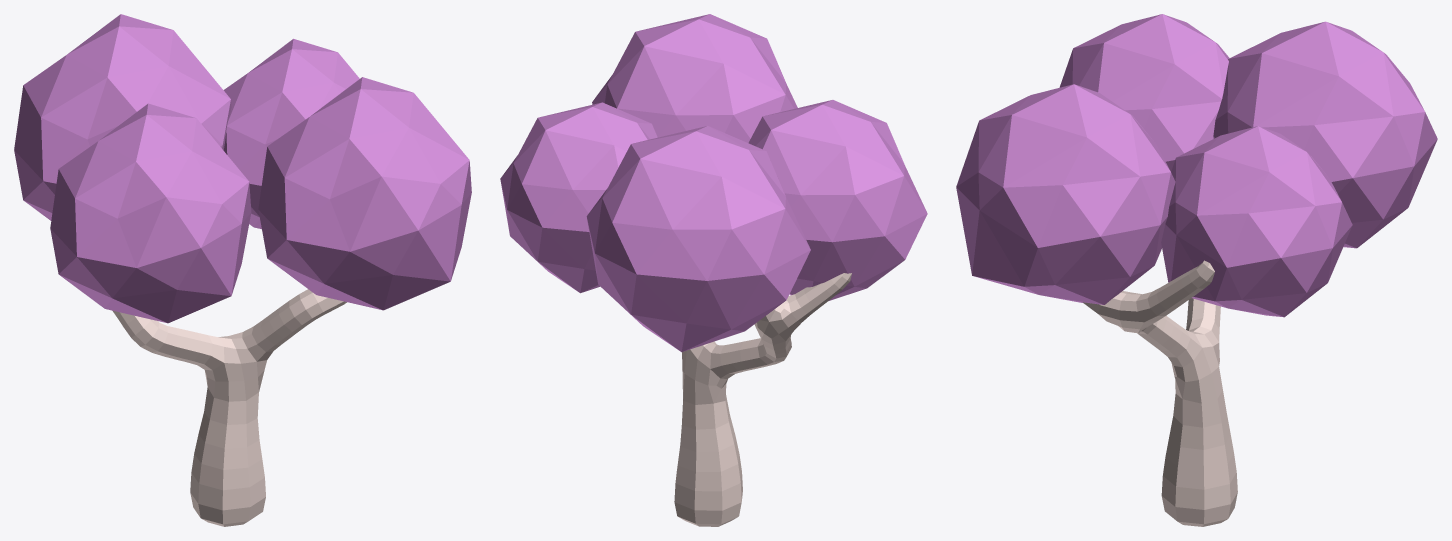
File: jacaranda_level0.glb
The picture shows the model from 3 angles, left to right: view 1: azimuth 30°, elevation 25°; view 2: azimuth 150°, elevation 25°; view 3: azimuth 270°, elevation 25°; orthographic projection. The views are drawn at different scales.
Parts seen in each view (by area): view 1: 平面.001; view 2: 平面.001; view 3: 平面.001.
Part boxes in pixels (left/top/right/bottom): 平面.001: left=14, top=14, right=471, bottom=526; 平面.001: left=500, top=14, right=927, bottom=526; 平面.001: left=956, top=14, right=1437, bottom=526.
Bounding box in the file's own units: 3.89 × 4.64 × 4.3.
